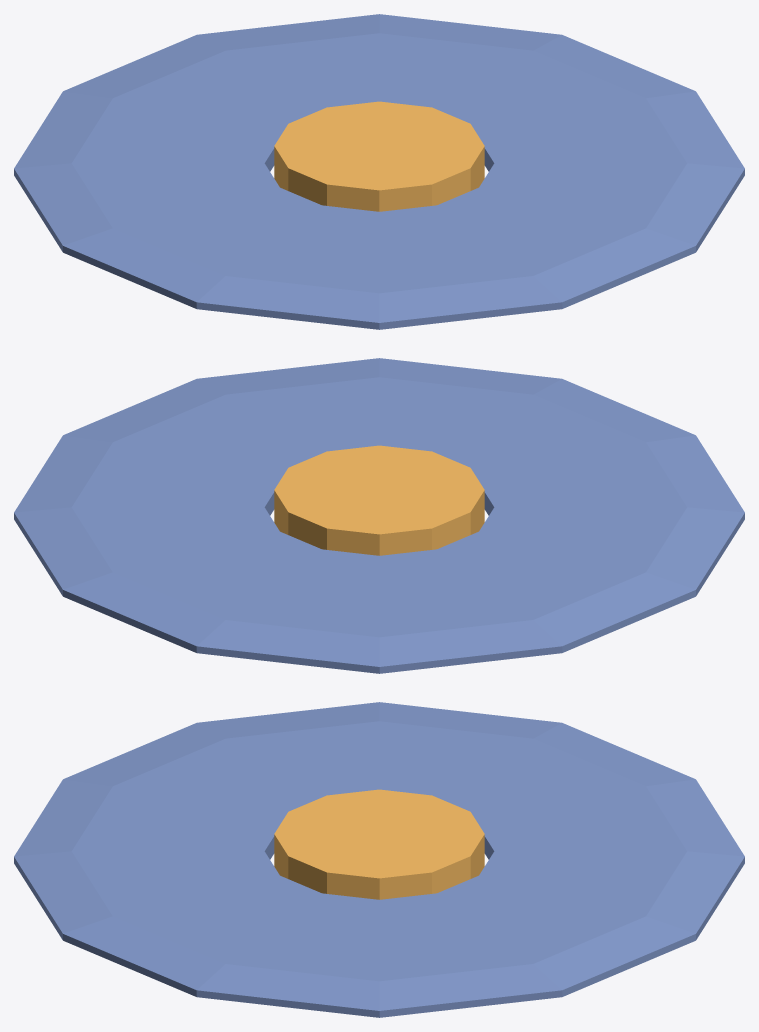
Rendered from energy_ring_attack.glb.
The picture shows the model from 3 angles, top to bottom: view 1: azimuth 30°, elevation 25°; view 2: azimuth 150°, elevation 25°; view 3: azimuth 270°, elevation 25°; orthographic projection.
Visible parts, largest first — view 1: obj_1, obj_2; view 2: obj_1, obj_2; view 3: obj_1, obj_2.
Boxes of the visible parts, x1,y1,x2,y2 form: obj_1: [14, 14, 744, 329]; obj_2: [274, 101, 484, 211]; obj_1: [14, 358, 744, 673]; obj_2: [274, 445, 484, 555]; obj_1: [14, 702, 744, 1017]; obj_2: [274, 789, 484, 899].
Bounding box in the file's own units: 38.21 × 2 × 38.21.
